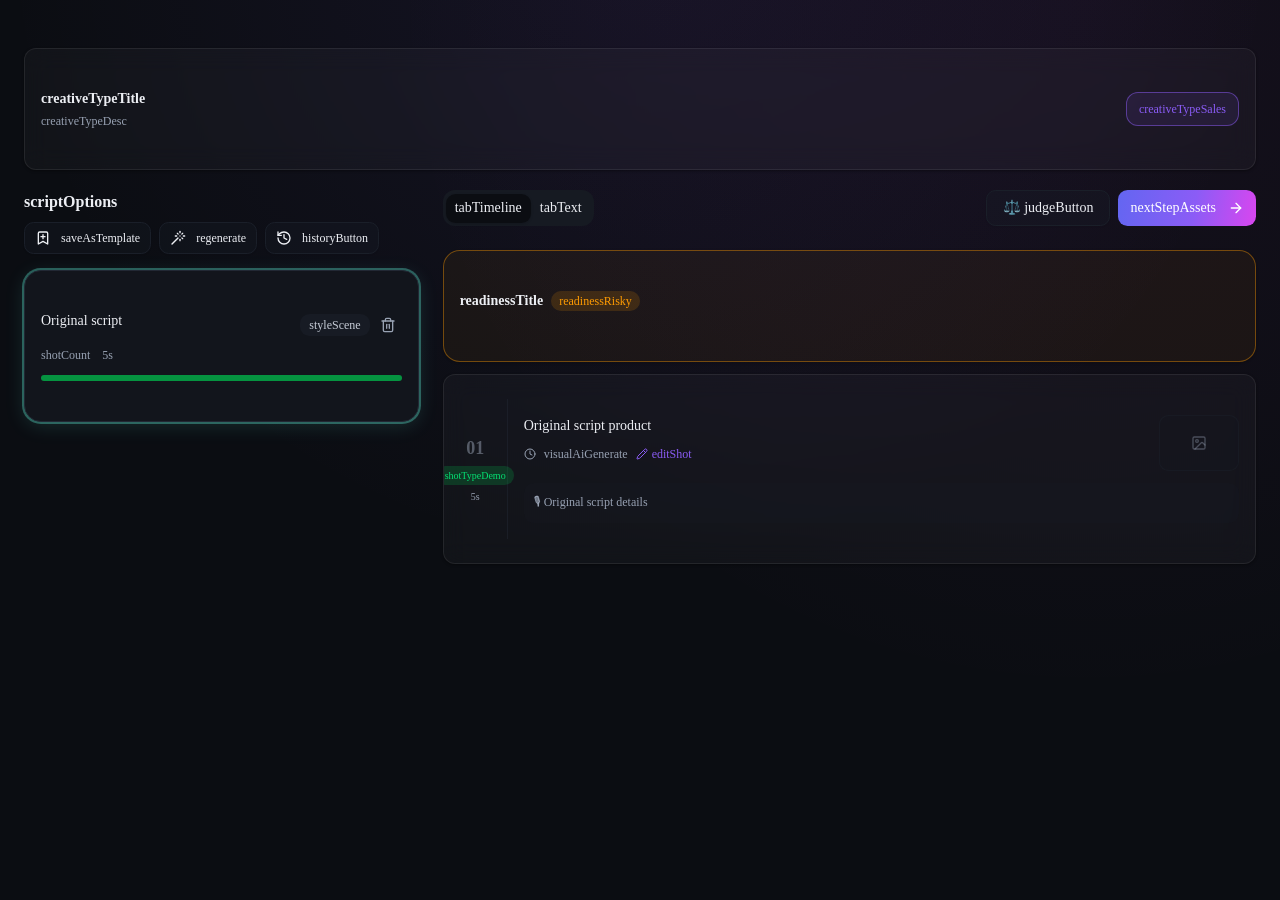
it: script regeneration recovers without a page refresh › loads saved scripts when the POST response has no script rows
Click the button "regenerate" at (208, 238), box [159,222,257,254]
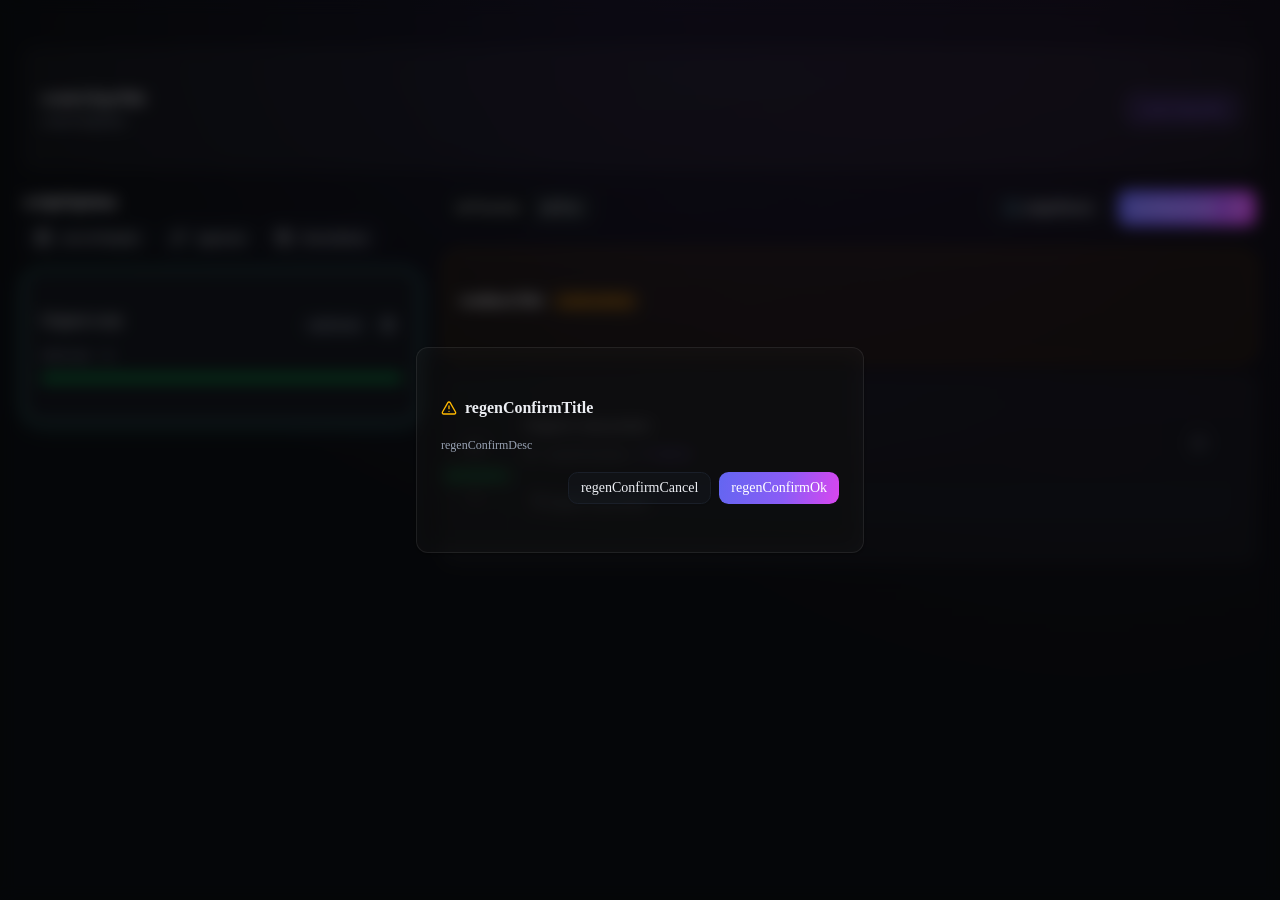
Click the button "regenConfirmOk" at (779, 488), box [719,472,839,504]
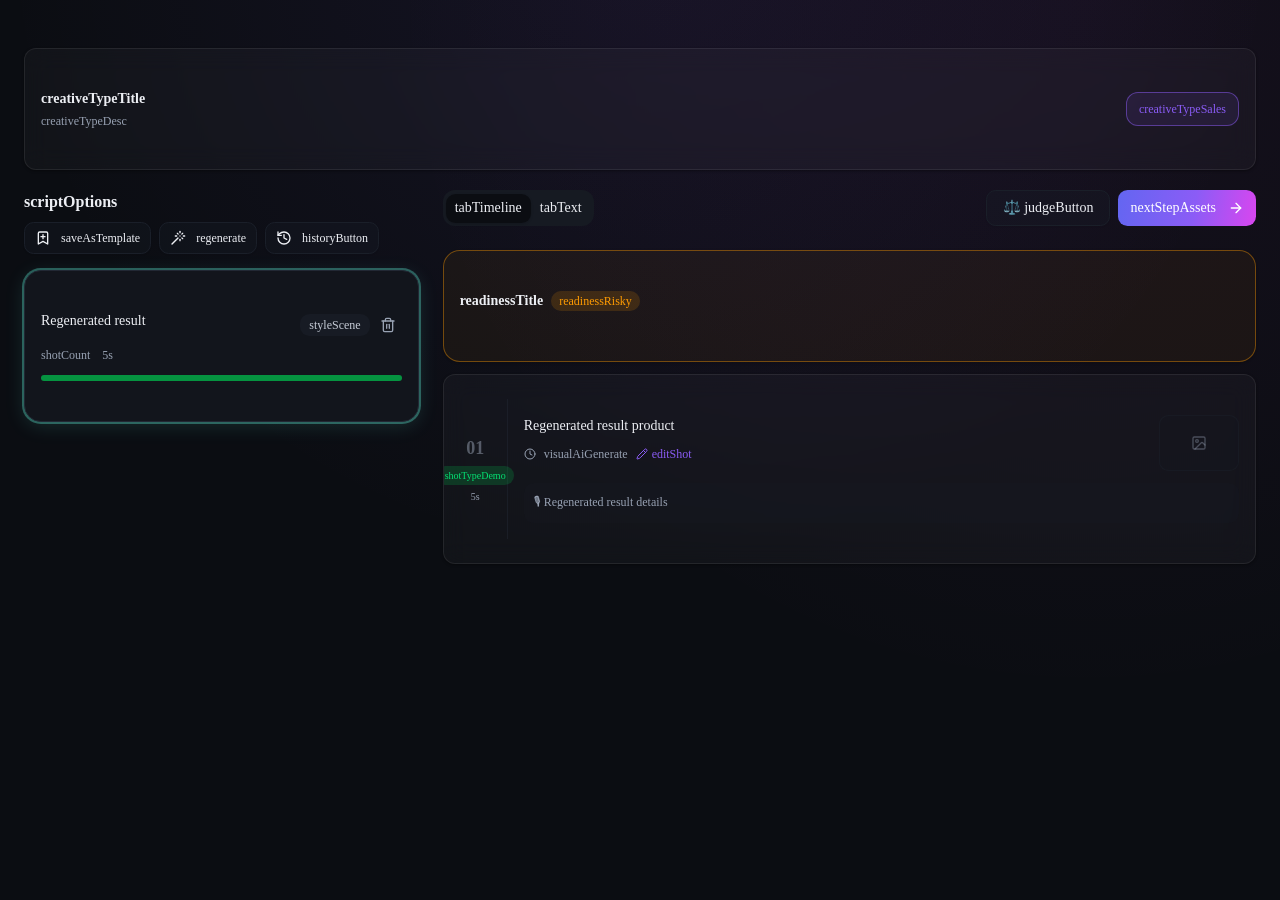
Check: the text "Regenerated result" is shown, box [41,311,146,331]
Check: the text "Regenerated result details" is shown, box [544,495,668,509]
Check: the text "Original script" is gone
